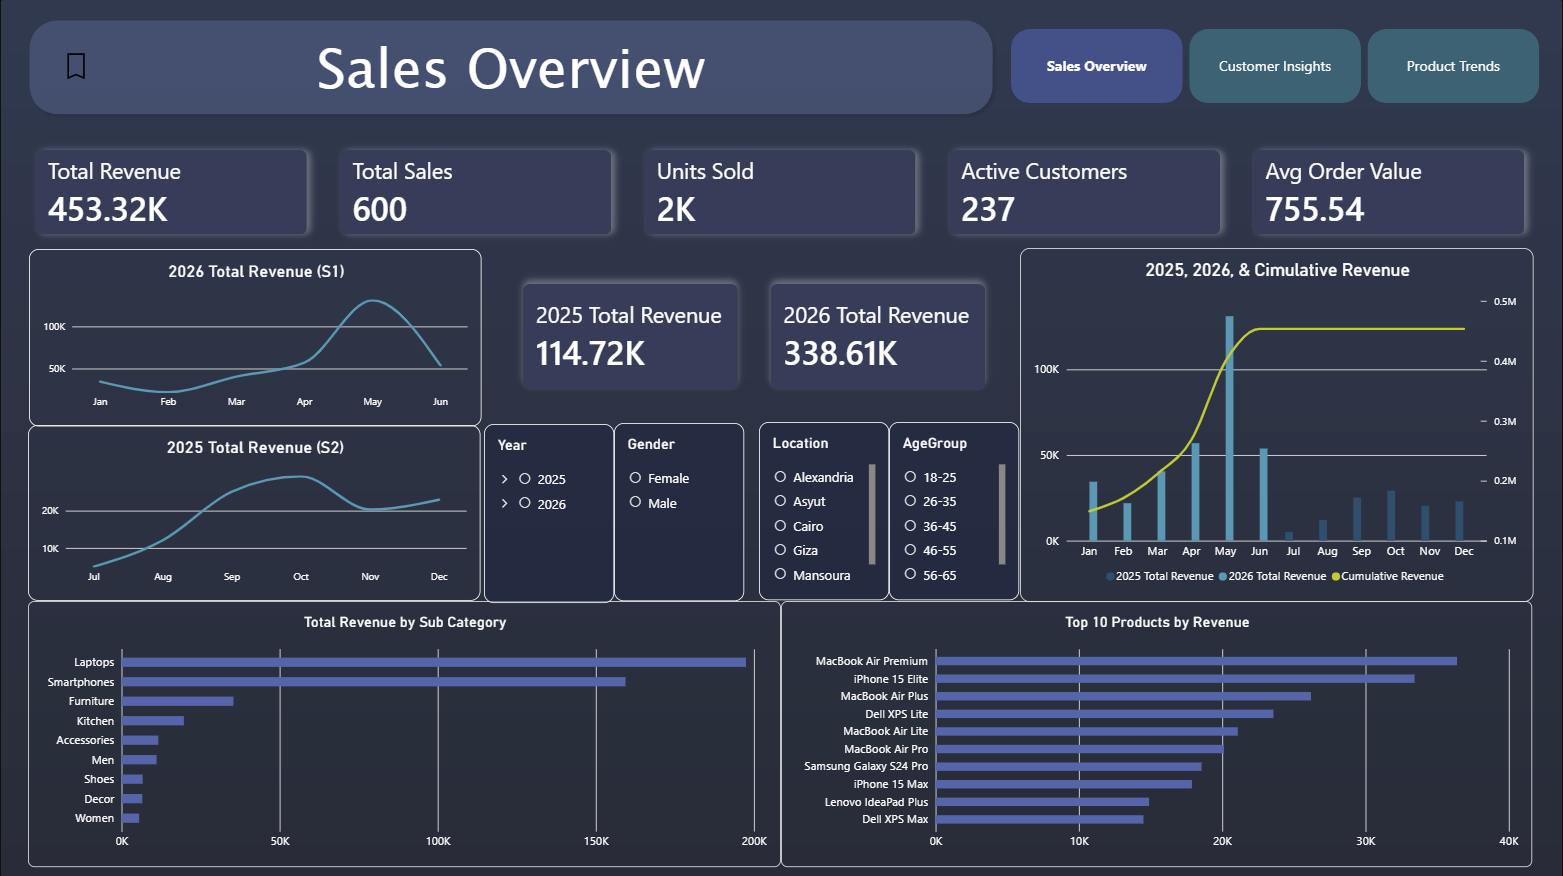

The dashboard page shown, as its layout file describes it:
{"tool":"powerbi","page":{"name":"Sales  Overview","canvas":[1920,1080],"ordinal":0},"visuals":[{"type":"shape","box":[26.7,16.7,1201.7,133.3],"z":0},{"type":"barChart","title":"Total Revenue by Sub Category","fields":{"Category":["Products.SubCategory"],"Y":["Sales.Total Revenue"]},"box":[35,740,925,326.7],"z":1000},{"type":"barChart","title":"Top 10 Products by Revenue","fields":{"Category":["Products.ProductName"],"Y":["Sales.Total Revenue"]},"box":[960,740,923.3,326.7],"z":2000},{"type":"pageNavigator","box":[1241.7,36.7,651.7,91.7],"z":3000},{"type":"actionButton","box":[54.3,42.9,78.6,80],"z":4000},{"type":"lineClusteredColumnComboChart","title":"2025, 2026, & Cimulative Revenue","fields":{"Category":["Dim_Date.MonthName"],"Y":["Sales.2025 Total Revenue","Sales.2026 Total Revenue"],"Y2":["Sales.Cumulative Revenue"]},"box":[1253.5,306.1,630.7,434.6],"z":6000},{"type":"lineChart","title":"2025 Total Revenue (S2)","fields":{"Category":["Dim_Date.MonthName"],"Y":["Sales.2025 Total Revenue"]},"box":[35,523,556,216],"z":7000},{"type":"lineChart","title":"2026 Total Revenue (S1)","fields":{"Category":["Dim_Date.MonthName"],"Y":["Sales.2026 Total Revenue"]},"box":[35.7,307.1,556,218],"z":8000},{"type":"listSlicer","fields":{"Values":["Dim_Date.Date.Variation.Date Hierarchy.Year","Dim_Date.Date.Variation.Date Hierarchy.Quarter","Dim_Date.Date.Variation.Date Hierarchy.Month","Dim_Date.Date.Variation.Date Hierarchy.Day"]},"box":[594.2,521.7,160,220],"z":9000},{"type":"listSlicer","fields":{"Values":["Customers.AgeGroup"]},"box":[1092.9,520,160,218.6],"z":10000},{"type":"cardVisual","fields":{"Data":["Sales.Total Revenue","Sales.Total Sales","Sales.Units Sold","Sales.Active Customers","Sales.Avg Order Value"]},"box":[26.7,170,1866.7,136.7],"z":11000},{"type":"cardVisual","fields":{"Data":["Sales.2025 Total Revenue","Sales.2026 Total Revenue"]},"box":[627.1,334.3,601.4,162.9],"z":11001},{"type":"listSlicer","fields":{"Values":["Customers.Gender"]},"box":[754.3,521.4,160,218.6],"z":11002},{"type":"listSlicer","fields":{"Values":["Customers.Location"]},"box":[932.9,520,160,218.6],"z":11003}]}

Visuals, with their boxes in screenshot pixels (x1, y1, x2, y2), scaled from the page's 1920x1080 canvas onto the 1563x876 screenshot:
shape: (22,14,1000,122)
"Total Revenue by Sub Category" barChart: (28,600,782,865)
"Top 10 Products by Revenue" barChart: (782,600,1533,865)
pageNavigator: (1011,30,1541,104)
actionButton: (44,35,108,100)
"2025, 2026, & Cimulative Revenue" lineClusteredColumnComboChart: (1020,248,1534,601)
"2025 Total Revenue (S2)" lineChart: (28,424,481,599)
"2026 Total Revenue (S1)" lineChart: (29,249,482,426)
listSlicer - Dim_Date.Date.Variation.Date Hierarchy.Year x Dim_Date.Date.Variation.Date Hierarchy.Quarter: (484,423,614,602)
listSlicer - Customers.AgeGroup: (890,422,1020,599)
cardVisual - Sales.Total Revenue x Sales.Total Sales: (22,138,1541,249)
cardVisual - Sales.2025 Total Revenue x Sales.2026 Total Revenue: (510,271,1000,403)
listSlicer - Customers.Gender: (614,423,744,600)
listSlicer - Customers.Location: (759,422,890,599)
